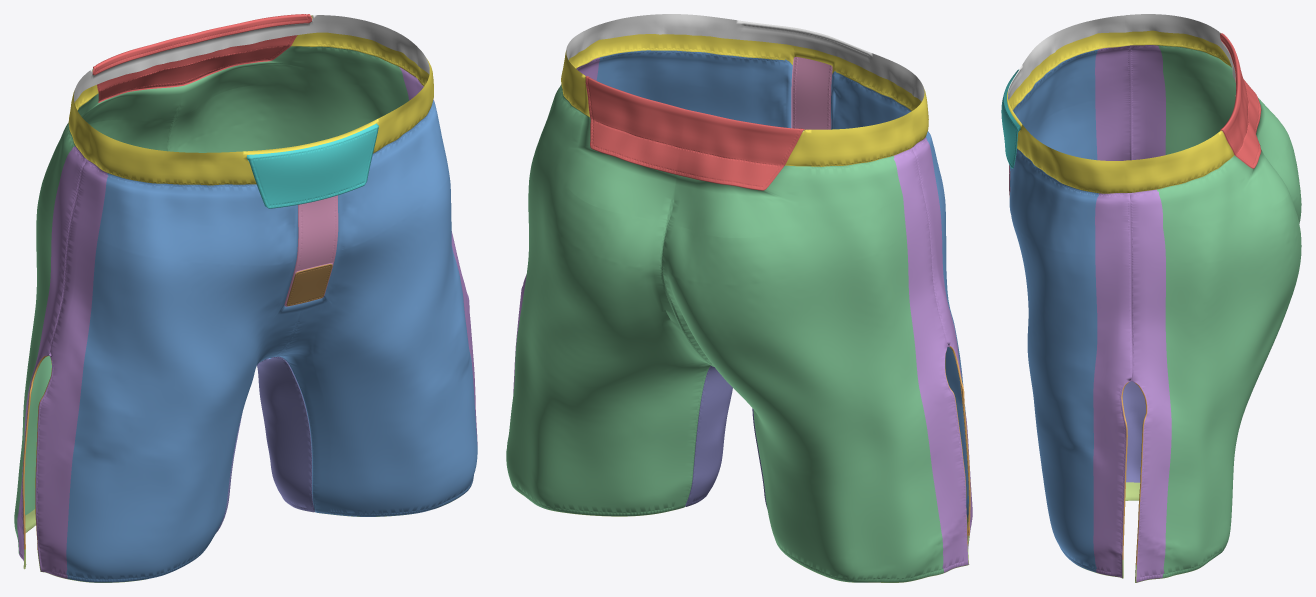
The picture shows the model from 3 angles, left to right: view 1: azimuth 30°, elevation 25°; view 2: azimuth 150°, elevation 25°; view 3: azimuth 270°, elevation 25°; orthographic projection. The views are drawn at different scales.
Parts seen in each view (by area): view 1: FIGHTERO_Shorts_V05; view 2: FIGHTERO_Shorts_V05; view 3: FIGHTERO_Shorts_V05.
Boxes of the visible parts, x1,y1,x2,y2 form: FIGHTERO_Shorts_V05: [14, 14, 477, 582]; FIGHTERO_Shorts_V05: [506, 14, 972, 582]; FIGHTERO_Shorts_V05: [1001, 14, 1301, 582].
Bounding box in the file's own units: 0.6079 × 0.5676 × 0.3838.
